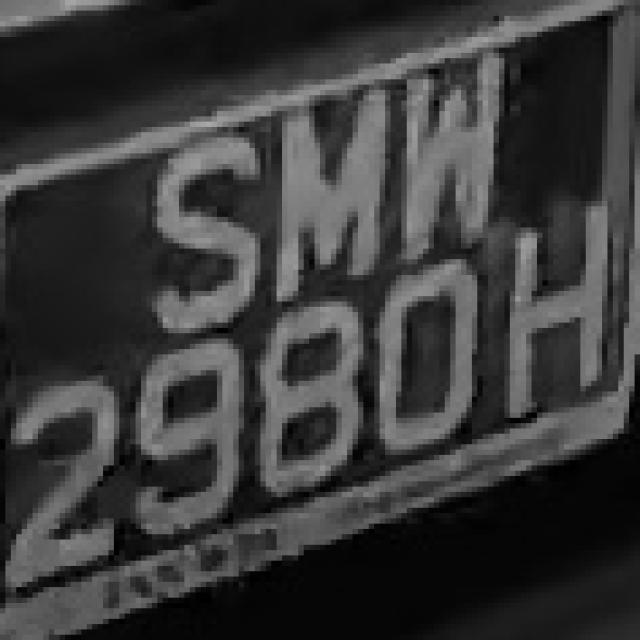0: (364, 270, 488, 460)
2: (11, 370, 141, 603)
8: (244, 296, 369, 508)
9: (108, 333, 255, 540)
H: (510, 196, 618, 439)
M: (266, 79, 401, 291)
S: (141, 116, 271, 334)
W: (391, 58, 515, 270)
